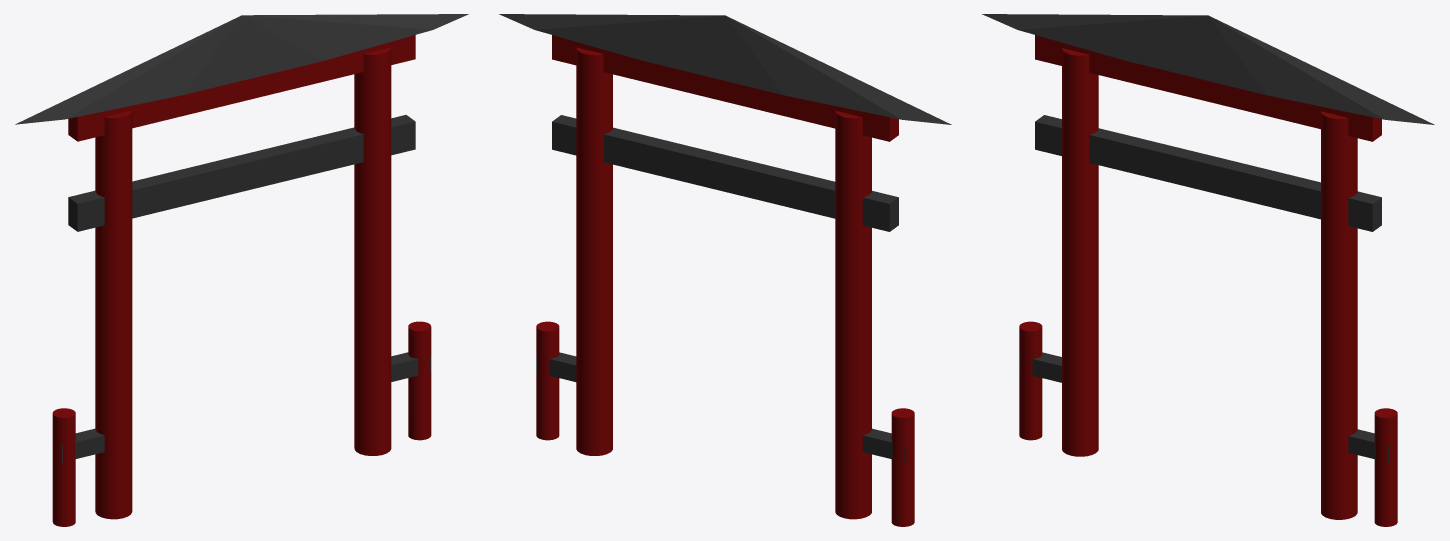
The model's file is Gates.fbx.
The picture shows the model from 3 angles, left to right: view 1: azimuth 30°, elevation 25°; view 2: azimuth 150°, elevation 25°; view 3: azimuth 330°, elevation 25°; orthographic projection.
Visible parts, largest first — view 1: pCone1, pCylinder3, pCylinder4, pCube1, pasted__pCube1, pCylinder6, pCylinder5, pCube2, pCube3; view 2: pCone1, pCylinder3, pCylinder4, pCube1, pasted__pCube1, pCylinder6, pCylinder5, pCube2, pCube3; view 3: pCone1, pCylinder4, pCylinder3, pCube1, pasted__pCube1, pCylinder5, pCylinder6, pCube2, pCube3.
Boxes of the visible parts, x1,y1,x2,y2 form: pCone1: [15, 14, 468, 124]; pCylinder3: [354, 47, 391, 455]; pCylinder4: [95, 110, 132, 519]; pCube1: [68, 115, 415, 231]; pasted__pCube1: [68, 35, 415, 141]; pCylinder6: [52, 408, 75, 526]; pCylinder5: [408, 321, 431, 440]; pCube2: [61, 428, 104, 462]; pCube3: [391, 352, 431, 381]; pCone1: [499, 14, 951, 124]; pCylinder3: [576, 47, 612, 455]; pCylinder4: [835, 110, 871, 519]; pCube1: [552, 115, 898, 231]; pasted__pCube1: [552, 35, 898, 141]; pCylinder6: [891, 408, 914, 526]; pCylinder5: [536, 321, 559, 440]; pCube2: [862, 428, 905, 462]; pCube3: [536, 352, 576, 381]; pCone1: [982, 14, 1434, 124]; pCylinder4: [1062, 48, 1098, 456]; pCylinder3: [1321, 111, 1357, 519]; pCube1: [1035, 115, 1381, 231]; pasted__pCube1: [1035, 35, 1381, 141]; pCylinder5: [1374, 408, 1397, 526]; pCylinder6: [1019, 321, 1042, 440]; pCube2: [1019, 352, 1061, 382]; pCube3: [1348, 429, 1388, 462].
Size of the model in its own units: 28.33 by 27.67 by 2.54.
